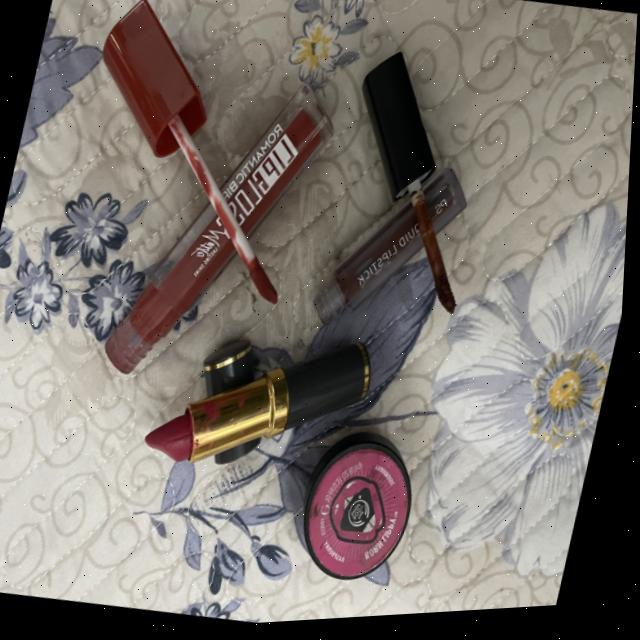lip balm: (284, 413, 440, 604)
lip gloss: (83, 72, 346, 425), (291, 143, 491, 367)
lip stick: (124, 308, 390, 519)
